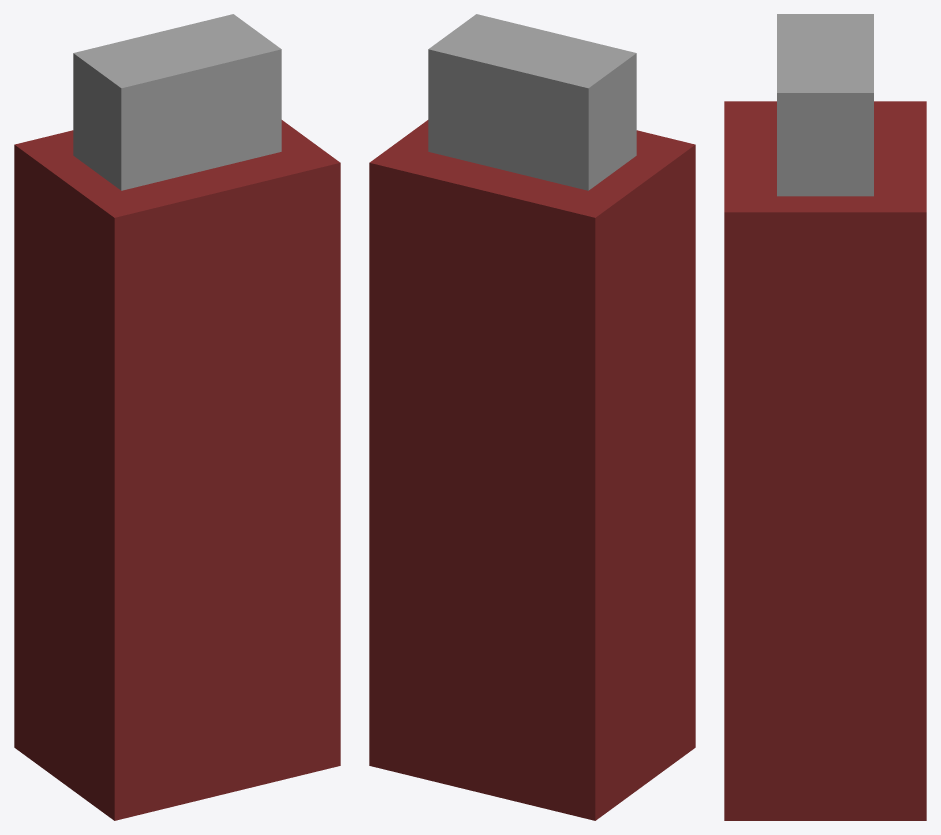
File: Skin Care.fbx
The picture shows the model from 3 angles, left to right: view 1: azimuth 30°, elevation 25°; view 2: azimuth 150°, elevation 25°; view 3: azimuth 270°, elevation 25°; orthographic projection.
Parts seen in each view (by area): view 1: Skin Care; view 2: Skin Care; view 3: Skin Care.
Boxes of the visible parts, x1=… form: Skin Care: x1=14, y1=14, x2=340, y2=820; Skin Care: x1=369, y1=14, x2=695, y2=820; Skin Care: x1=724, y1=14, x2=926, y2=820.
Size of the model in its own units: 0.0616 by 0.1837 by 0.0473.
